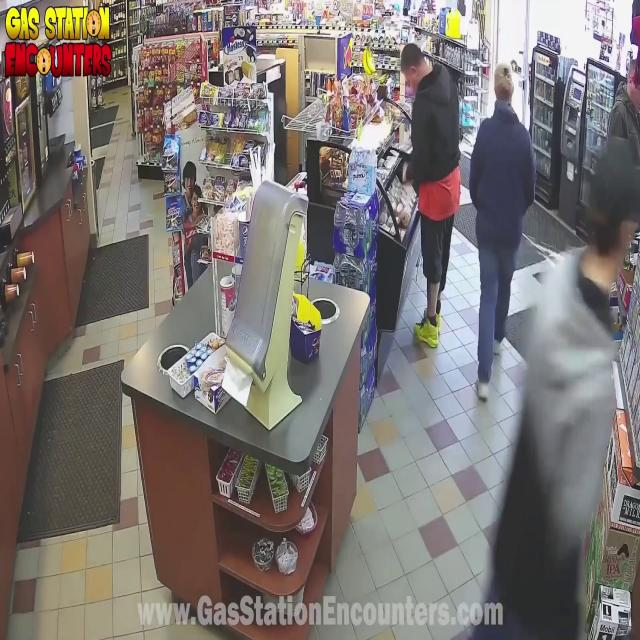Product: (392, 146, 412, 187)
normal: (536, 109, 640, 640), (470, 40, 530, 406), (599, 31, 640, 125)
shoplifting: (373, 28, 473, 371)
